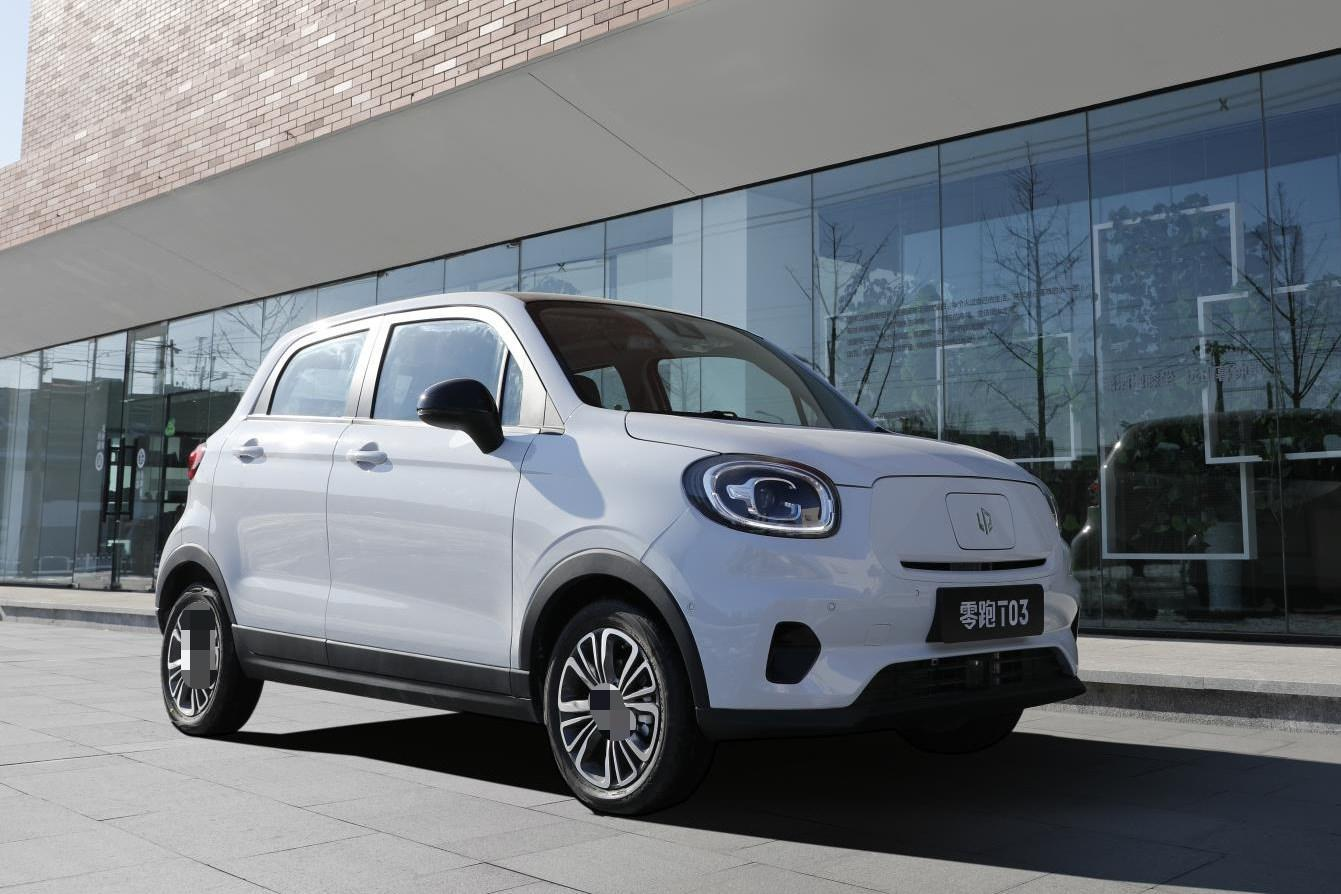LEAPMOTOR: (976, 505, 993, 536)
